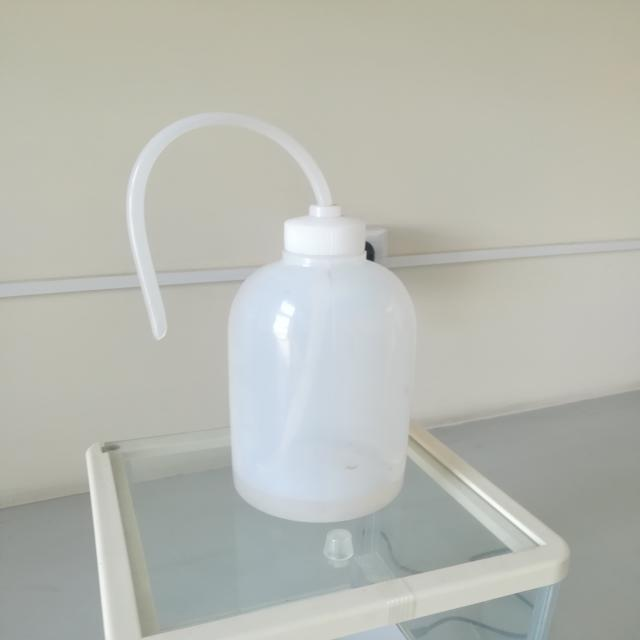Wash_Bottle: (84, 89, 464, 545)
